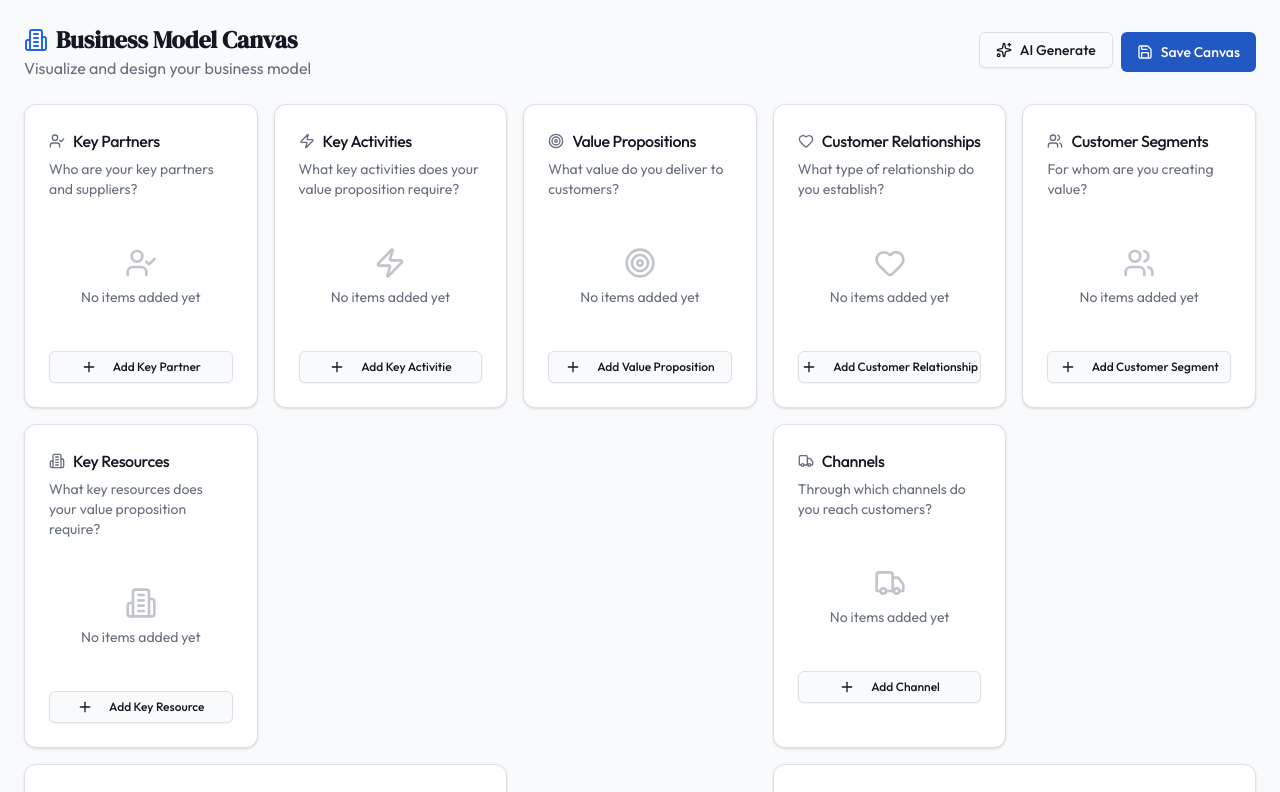
Test: BusinessModelCanvas › Adding Items › allows adding a key partner via dialog
Click the button "Add Key Partner" at [141, 367], box [49, 351, 233, 383]
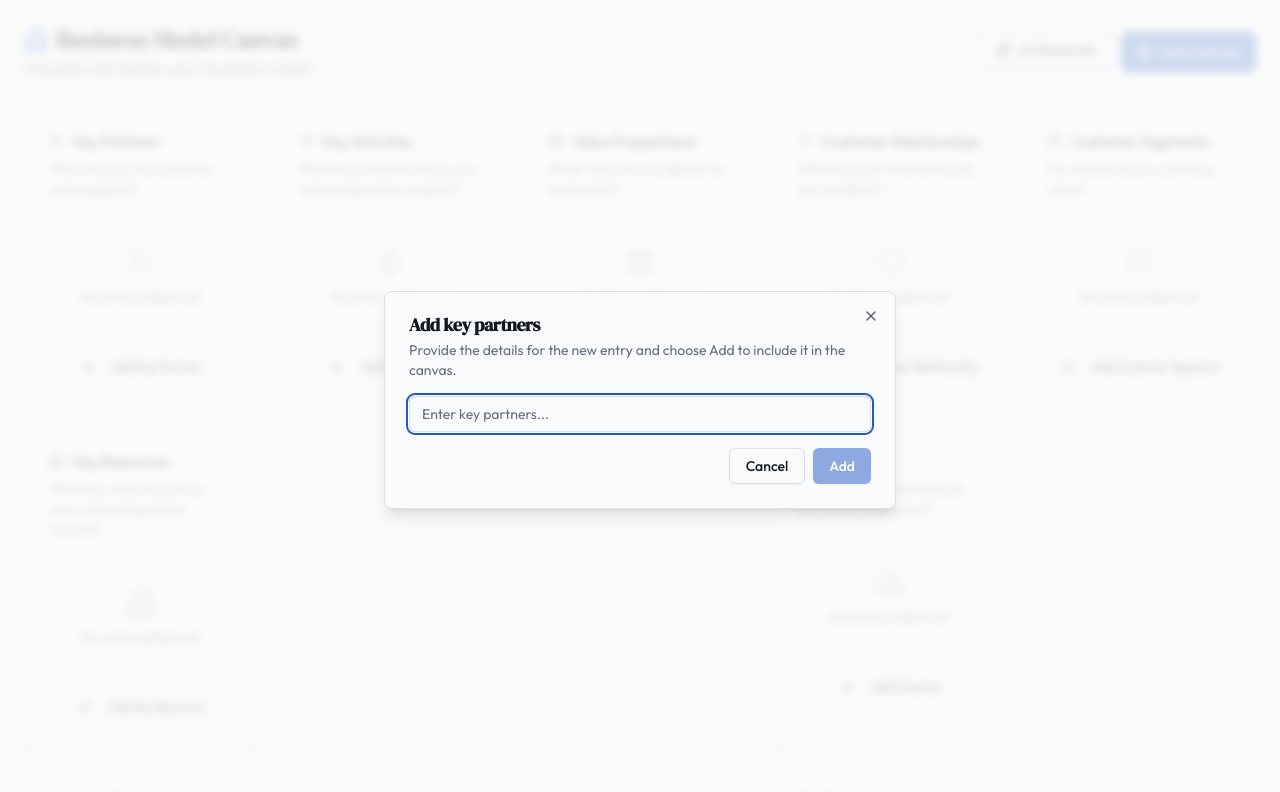
Type "Strategic integrator" into the field with placeholder "Enter key partners..." at [640, 414], box [409, 396, 871, 432]
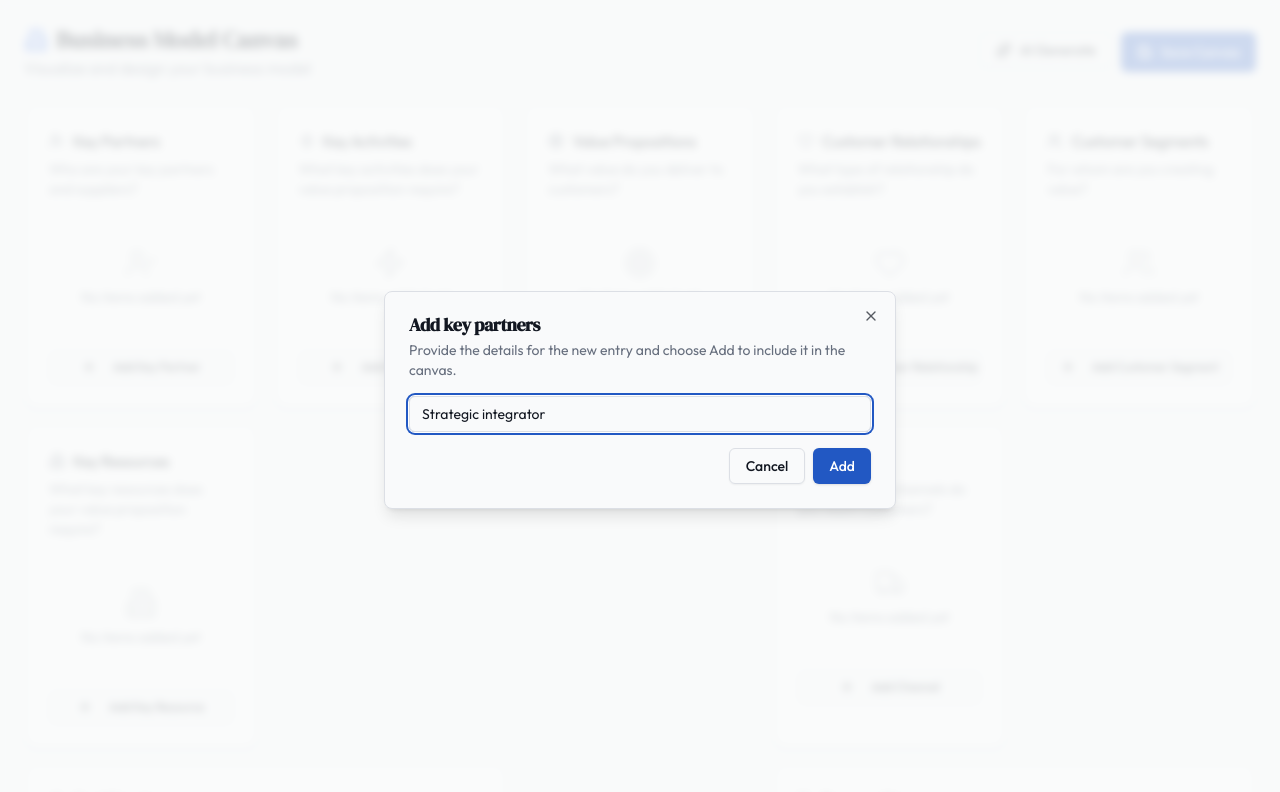
Click the button "Add" at [842, 466], box [813, 448, 871, 484]
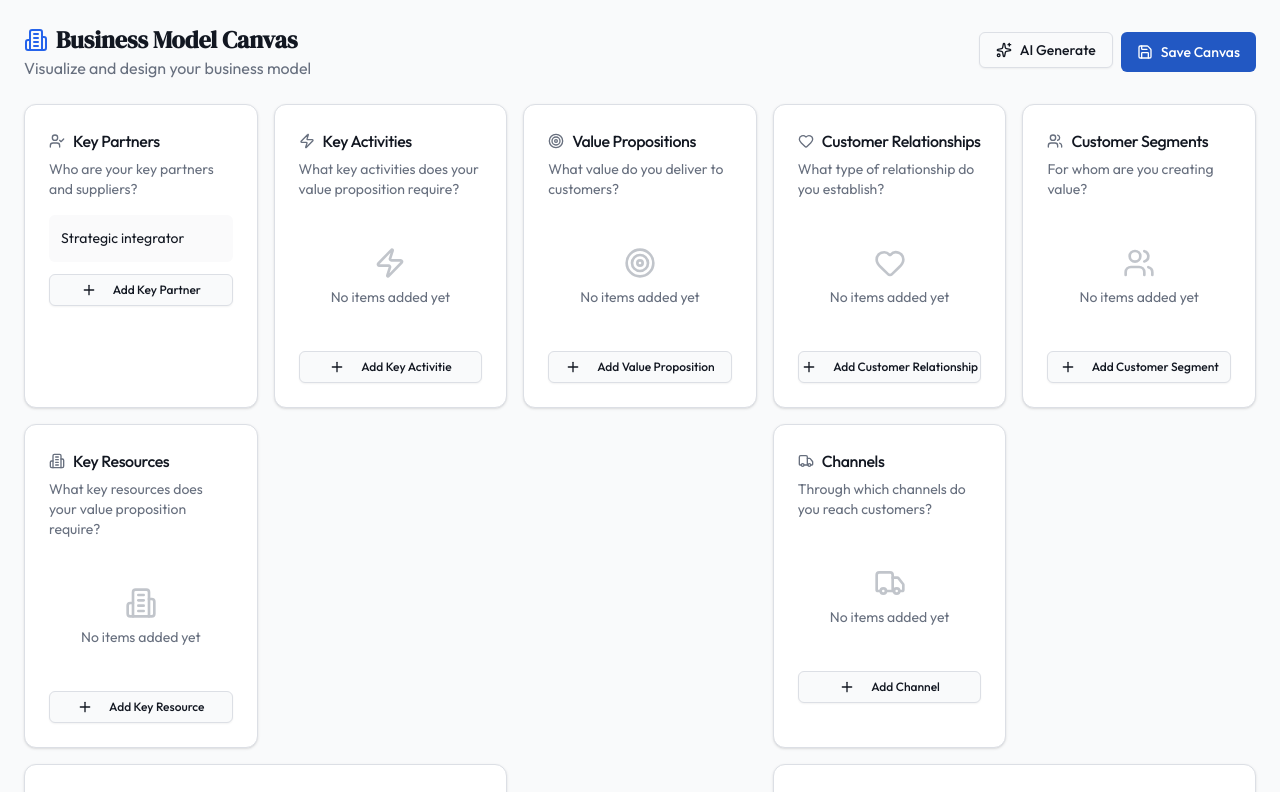
expect the text "Strategic integrator" is shown: met, box [49, 215, 233, 262]
